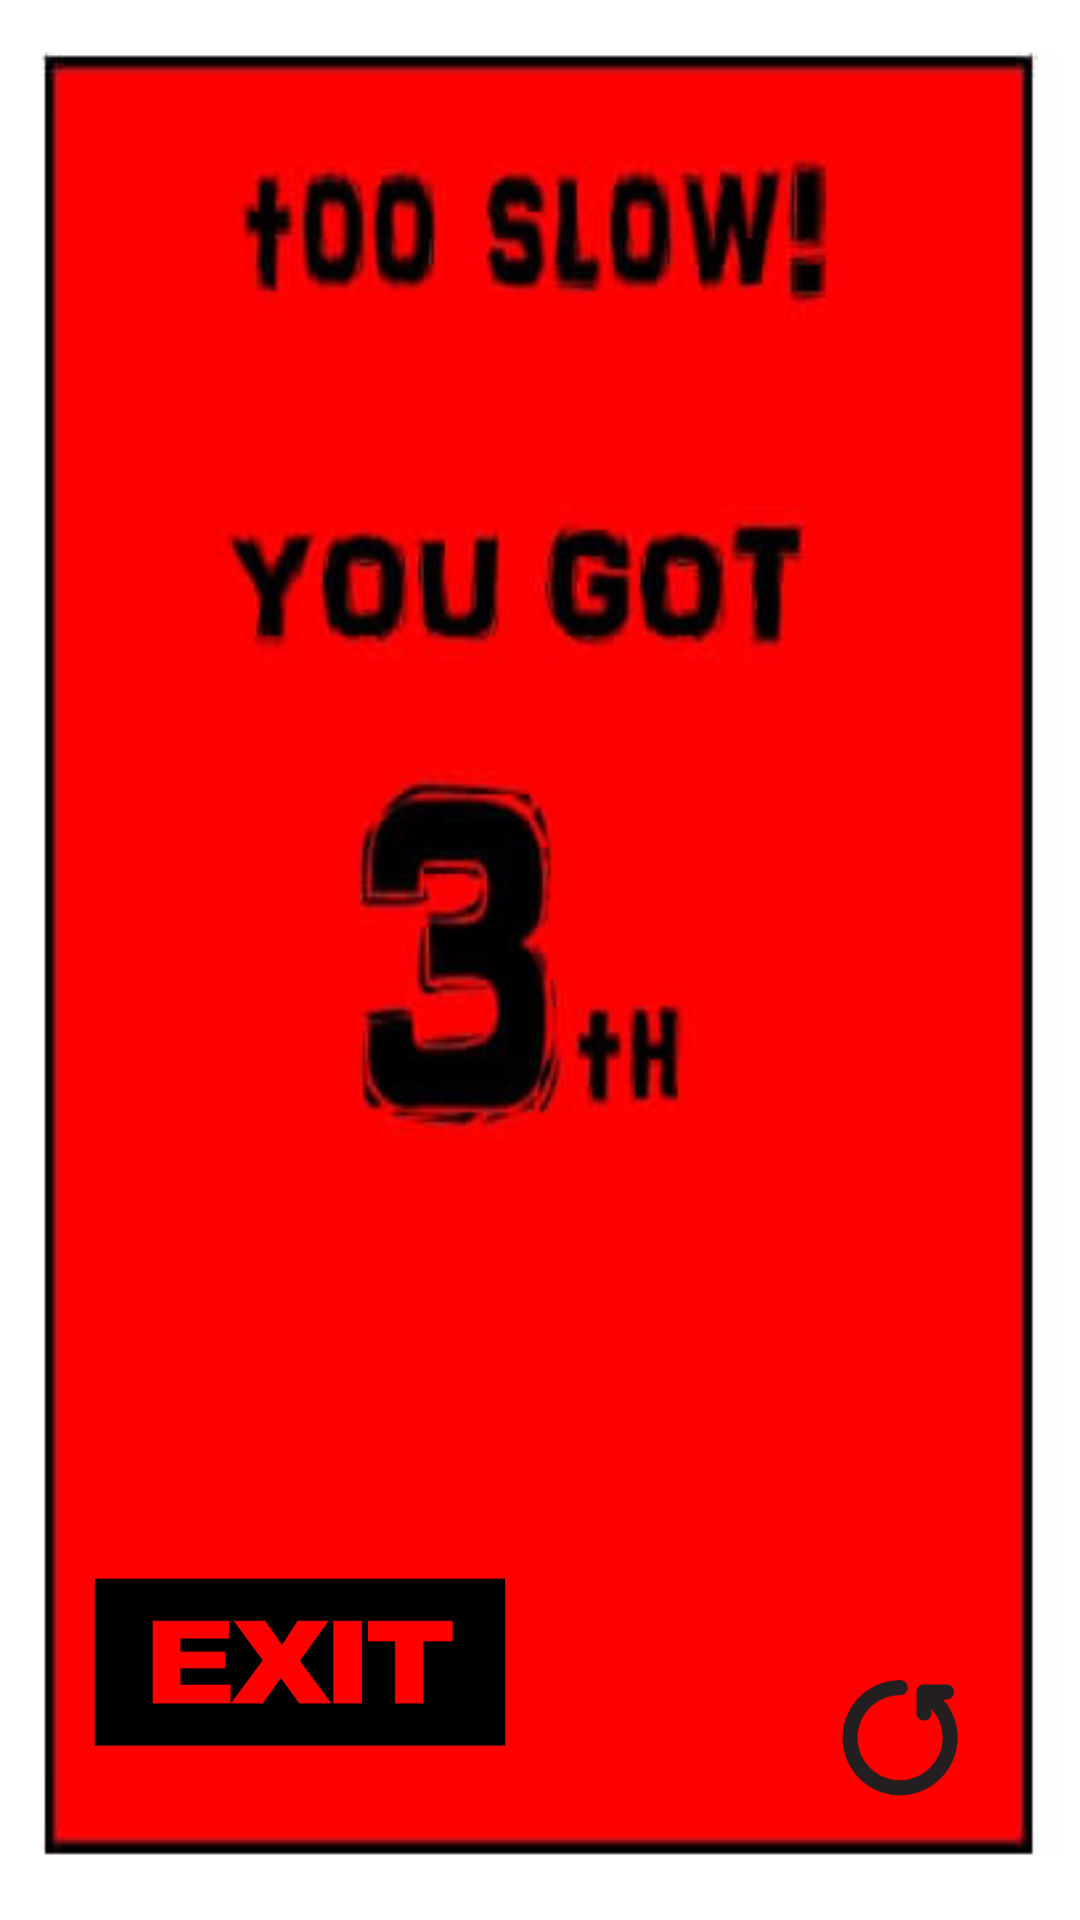

Named icons in this screenshot (1080x1920) and their bounding boxes, [x1, y1, x2, y2]:
again: [842, 1680, 958, 1796]
